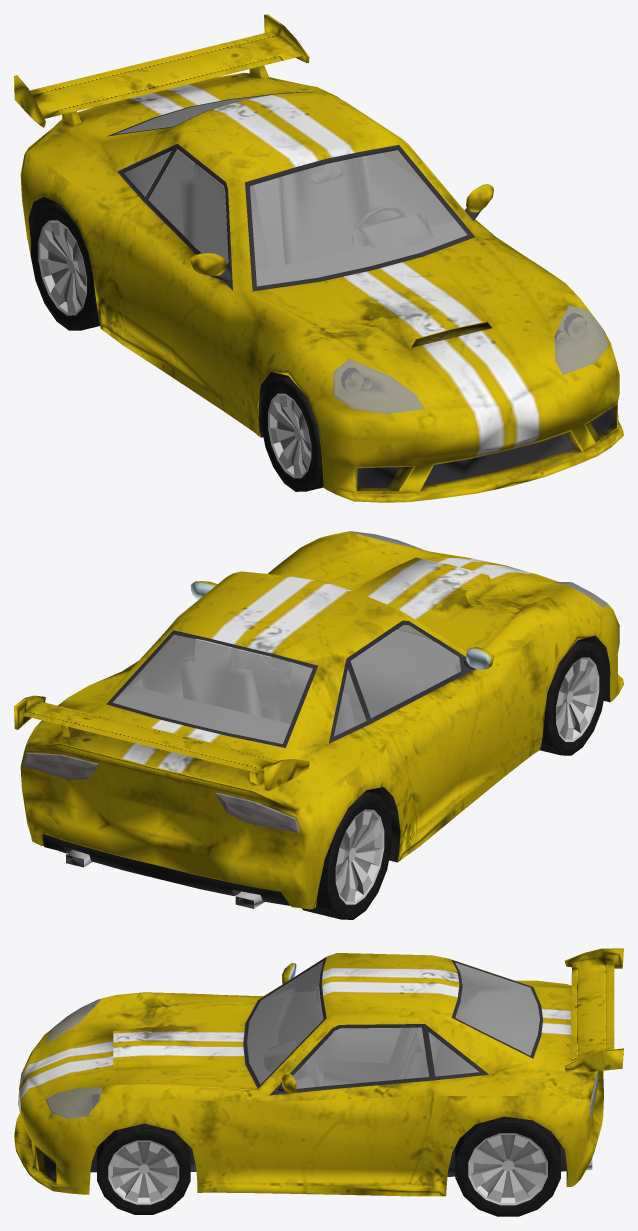
The model's file is V_car.fbx.
The picture shows the model from 3 angles, top to bottom: view 1: azimuth 30°, elevation 25°; view 2: azimuth 150°, elevation 25°; view 3: azimuth 270°, elevation 25°; orthographic projection. The views are drawn at different scales.
Parts seen in each view (by area): view 1: Body, Glass, WheelRR, WheelFR; view 2: Body, Glass, WheelRR, WheelFR; view 3: Body, Glass, WheelRL, WheelFL.
Part boxes in pixels (<box>): Body: <box>14,14,623,502</box>; Glass: <box>113,93,607,413</box>; WheelRR: <box>30,202,99,330</box>; WheelFR: <box>261,376,323,491</box>; Body: <box>14,531,623,909</box>; Glass: <box>23,531,607,833</box>; WheelRR: <box>302,791,391,919</box>; WheelFR: <box>540,640,605,755</box>; Body: <box>14,948,623,1196</box>; Glass: <box>45,961,598,1118</box>; WheelRL: <box>455,1116,560,1216</box>; WheelFL: <box>97,1123,190,1214</box>.
Size of the model in its own units: 193 by 132 by 408.
